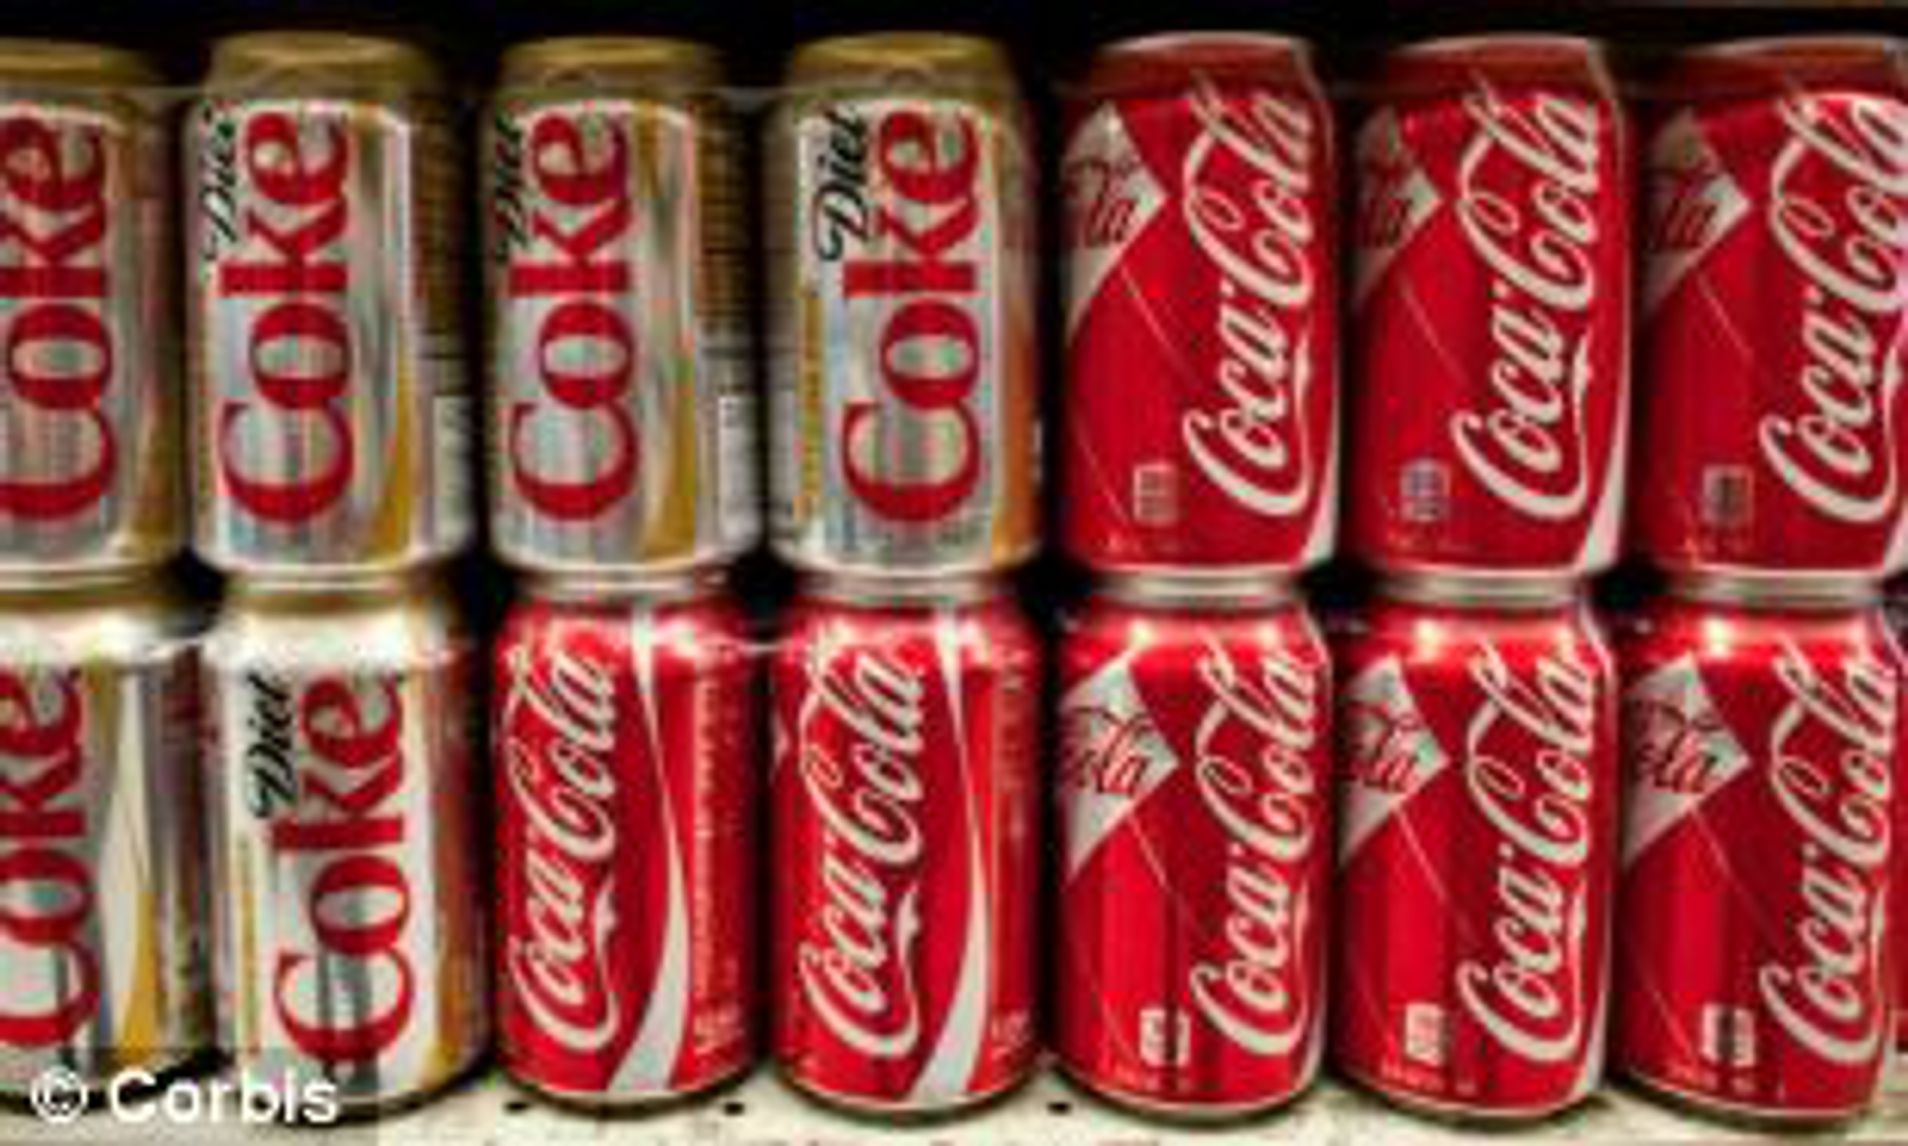can: (1047, 570, 1344, 1136), (1352, 12, 1650, 572), (1055, 16, 1352, 564), (763, 19, 1049, 576), (1338, 585, 1626, 1128), (191, 25, 472, 576), (1641, 25, 1903, 594), (1635, 604, 1908, 1146), (767, 589, 1041, 1121), (484, 575, 759, 1101), (482, 23, 745, 570), (204, 585, 472, 1116), (0, 26, 170, 585), (8, 594, 174, 1112)
